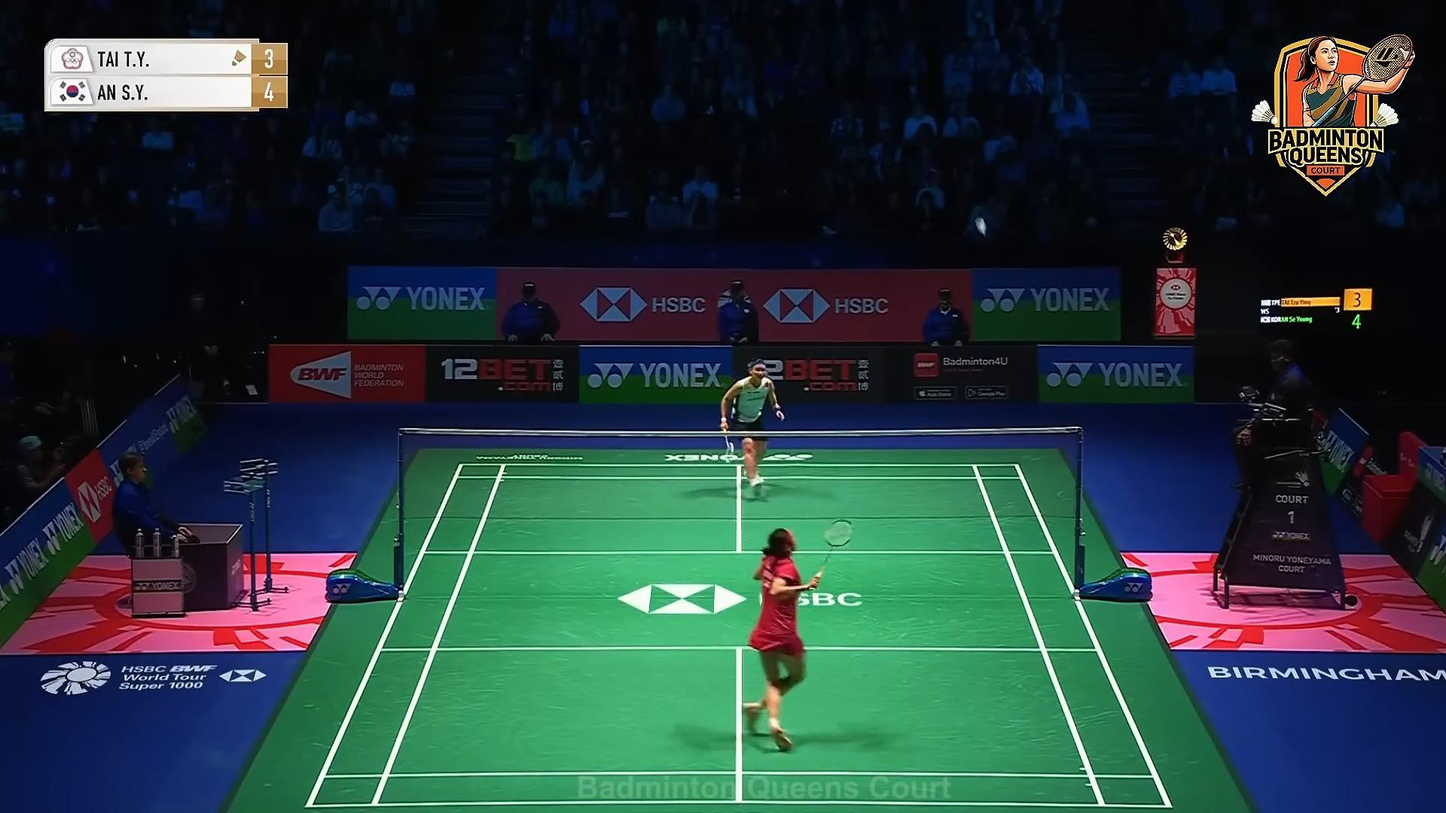player: (743, 528, 820, 753), (720, 356, 785, 487)
